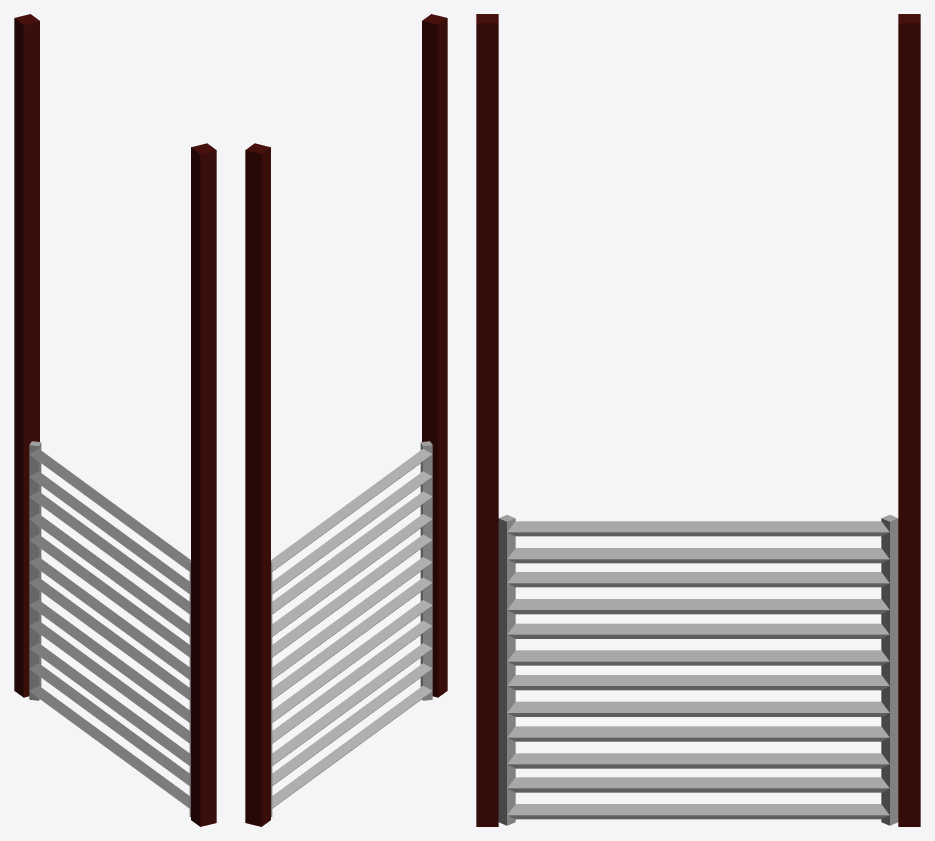
File: Gate.fbx
3 views of the same model, side by side, from view 1: azimuth 30°, elevation 25°; view 2: azimuth 150°, elevation 25°; view 3: azimuth 270°, elevation 25° (orthographic). The views are drawn at different scales.
Parts seen in each view (by area): view 1: Rails, Gateway; view 2: Rails, Gateway; view 3: Gateway, Rails.
Boxes of the visible parts, left/top/right/bottom form: Rails: left=14, top=14, right=216, bottom=826; Gateway: left=29, top=441, right=190, bottom=817; Rails: left=245, top=14, right=447, bottom=826; Gateway: left=271, top=441, right=432, bottom=817; Gateway: left=498, top=515, right=898, bottom=825; Rails: left=476, top=14, right=920, bottom=826.
Bounding box in the file's own units: 200 × 7894 × 3957.
